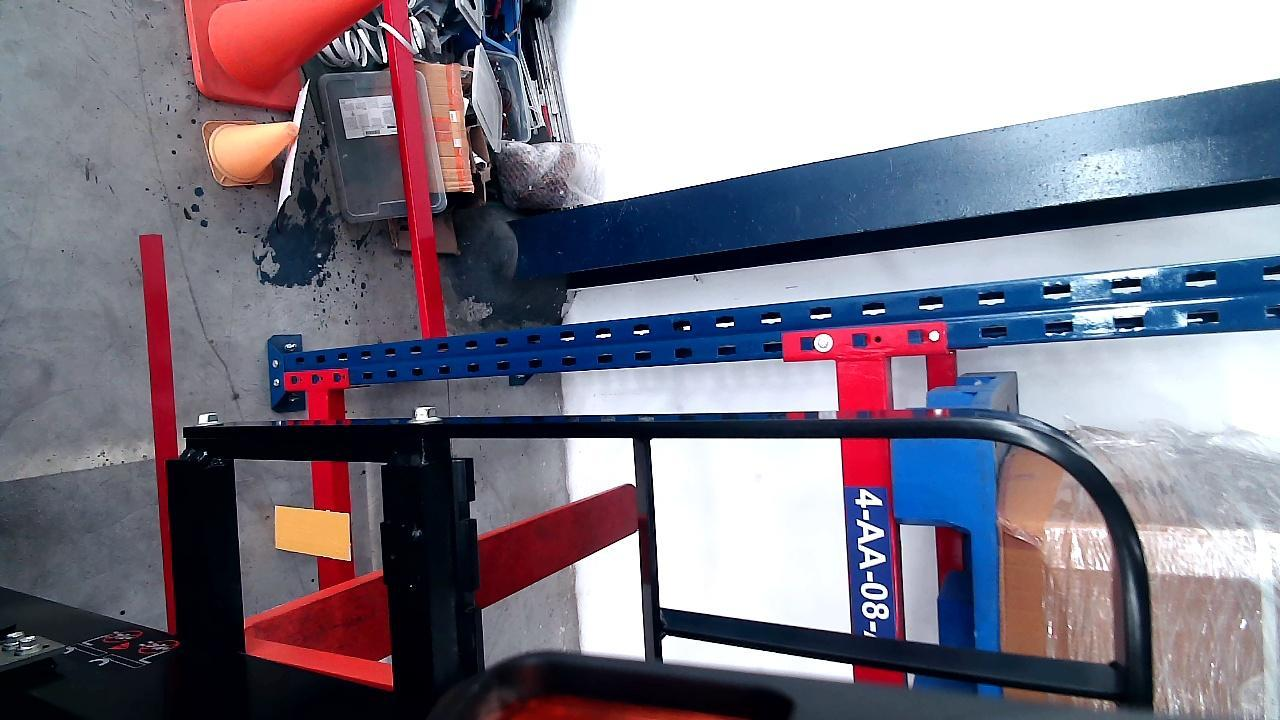red_line: (147, 235, 179, 635)
